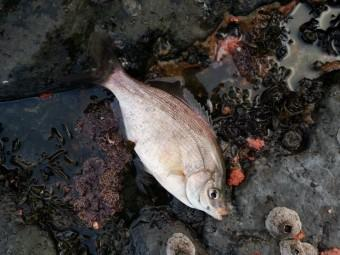fish: (61, 33, 229, 220)
